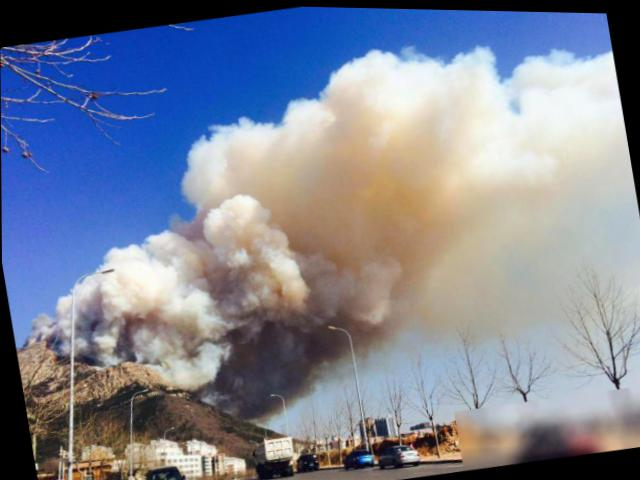smoke: (270, 33, 421, 252), (204, 182, 315, 343), (218, 322, 382, 427), (157, 200, 232, 399), (159, 98, 289, 200), (388, 17, 507, 128), (495, 30, 620, 127), (306, 234, 424, 335), (108, 232, 180, 371), (60, 253, 126, 369), (20, 289, 73, 370)
